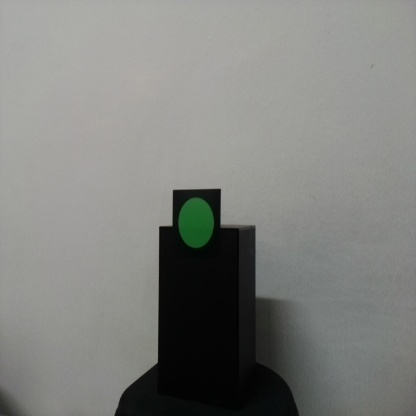id_5: (173, 189, 222, 259)
